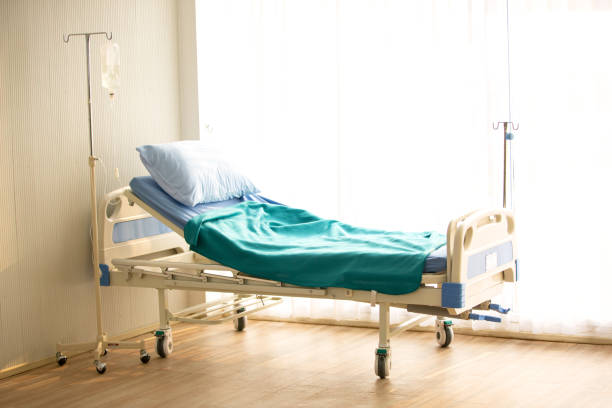bed: (93, 136, 520, 378)
